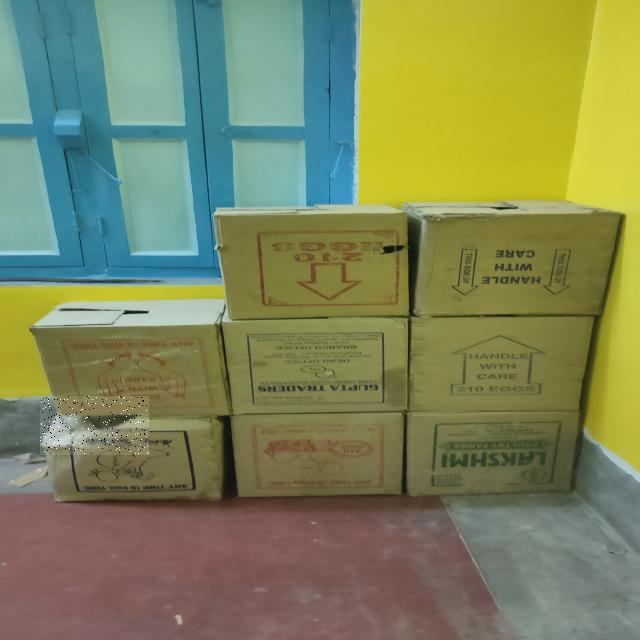squeeze: (41, 397, 149, 454)
